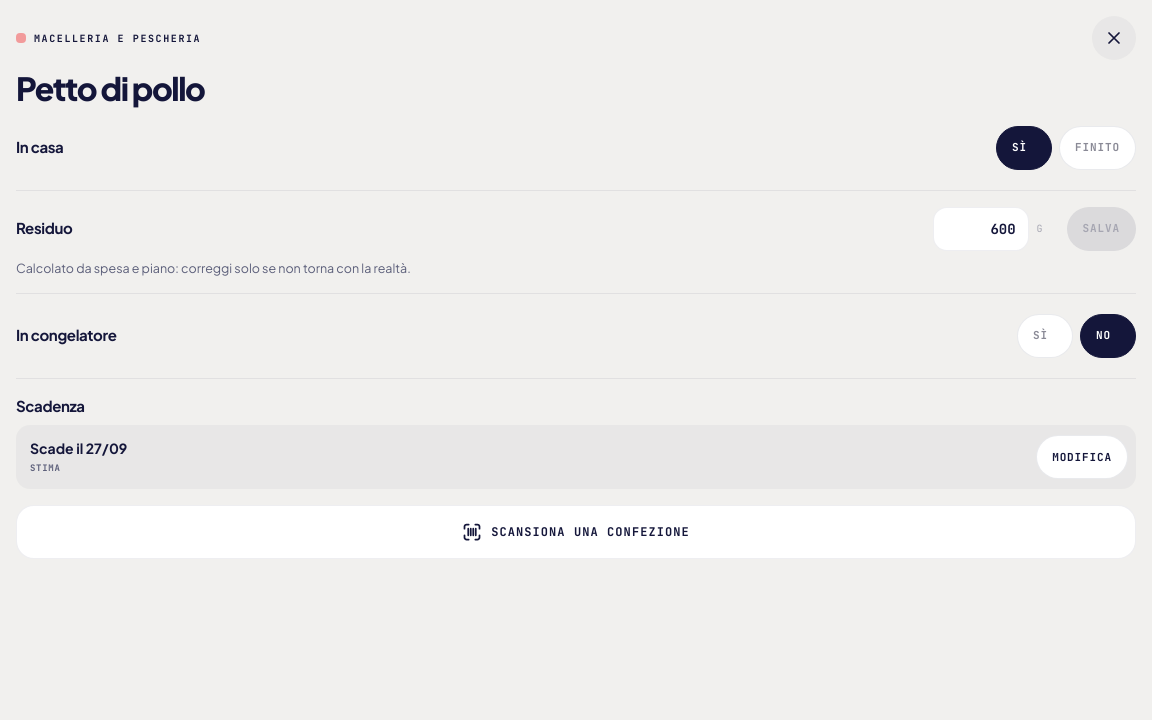
Scenario: DettaglioIngrediente › Scadenza › MODIFICA apre il campo col valore attuale e la stima
Step 1. Click the button with aria-label "Modifica la scadenza di Petto di pollo" → (1082, 457), box [1036,435,1128,479]
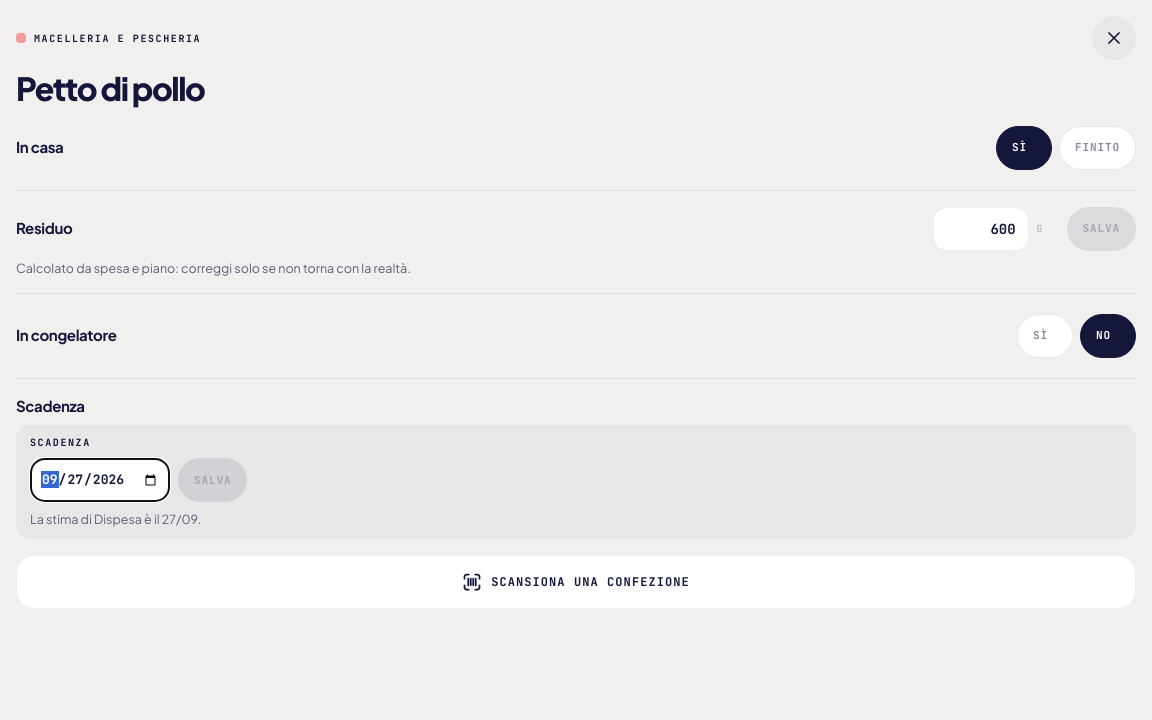
Check: the date field named "Scadenza di Petto di pollo" holds "2026-09-27", box [30,458,170,502]
Check: the text "La stima di Dispesa è il 27/09." is shown, box [30,511,201,527]
